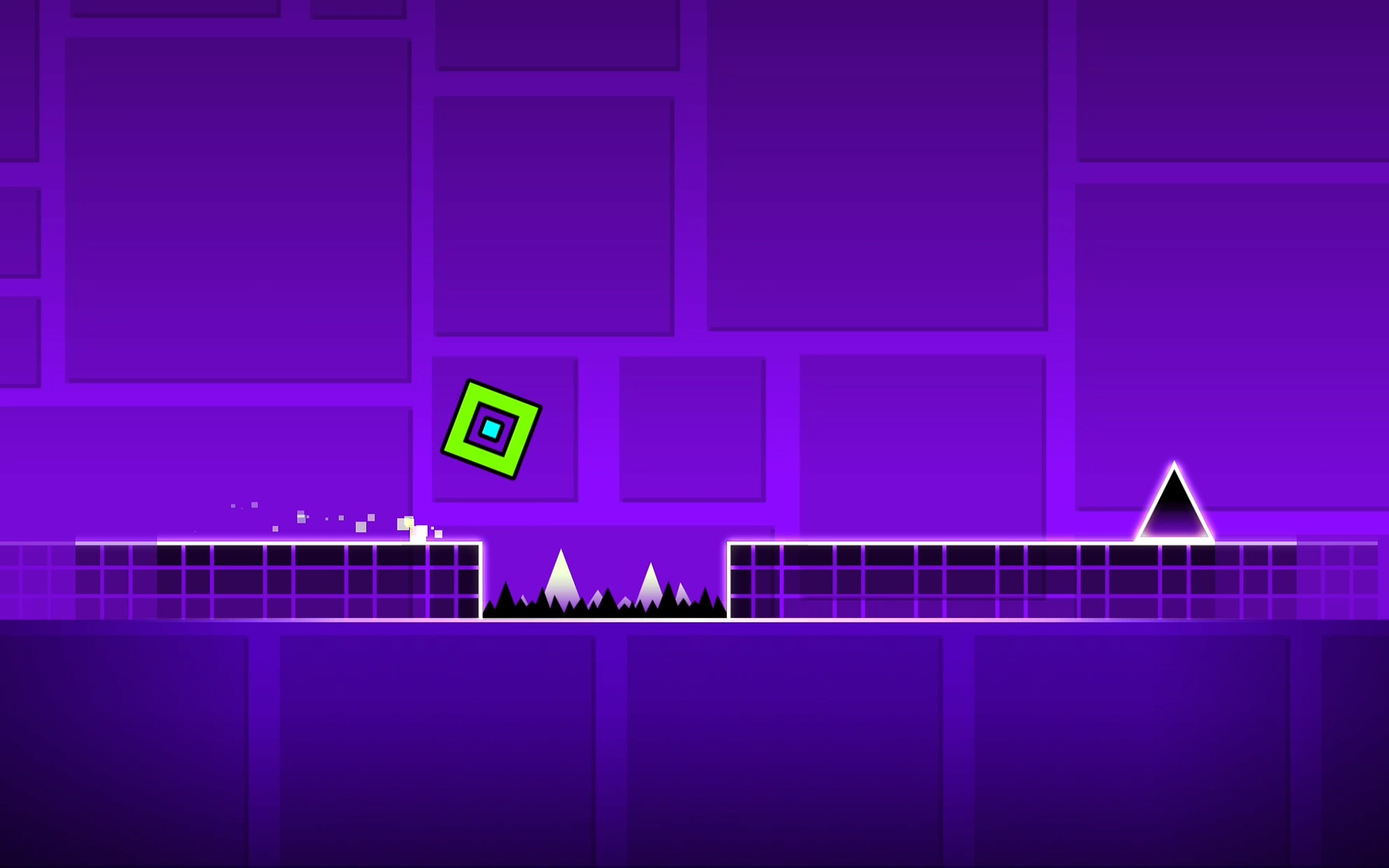Block2: (730, 540, 1387, 614), (2, 541, 487, 617)
Player: (439, 379, 540, 477)
Spike: (1137, 462, 1213, 538)
Spike3: (486, 584, 729, 622)
